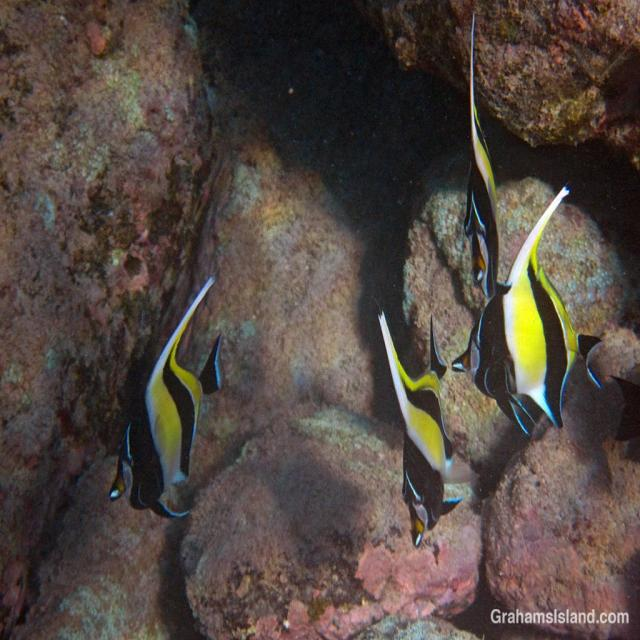MorishIdol: (451, 186, 604, 438), (107, 273, 224, 520), (374, 307, 480, 549)
